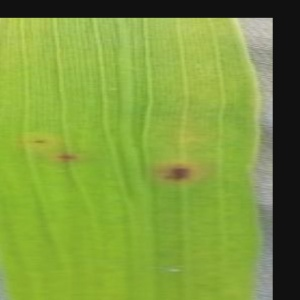Bacterial_Leaf_Blight: (151, 156, 196, 193), (17, 129, 57, 153), (53, 147, 87, 169)
